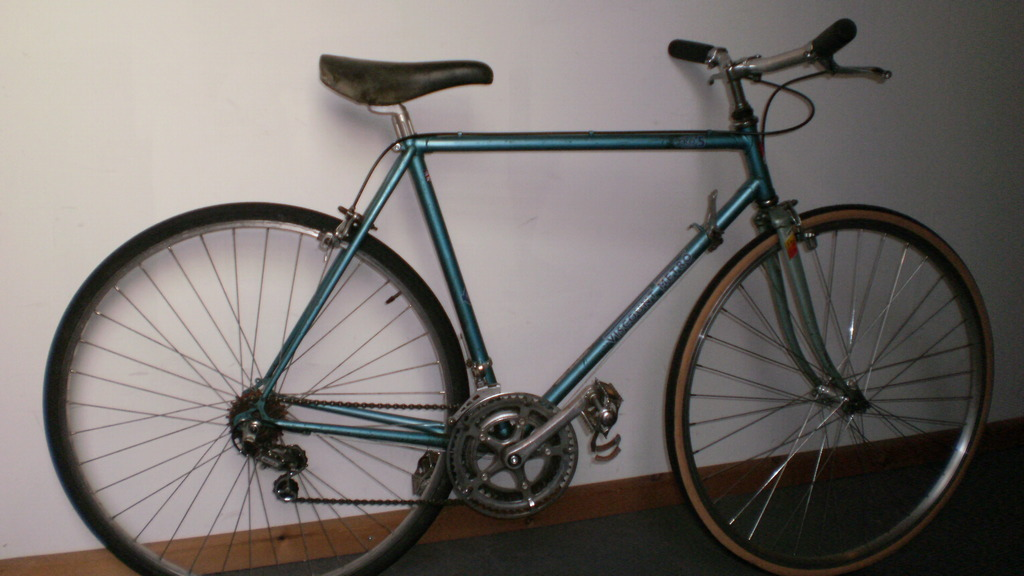Bike_away: (20, 25, 1004, 569)
